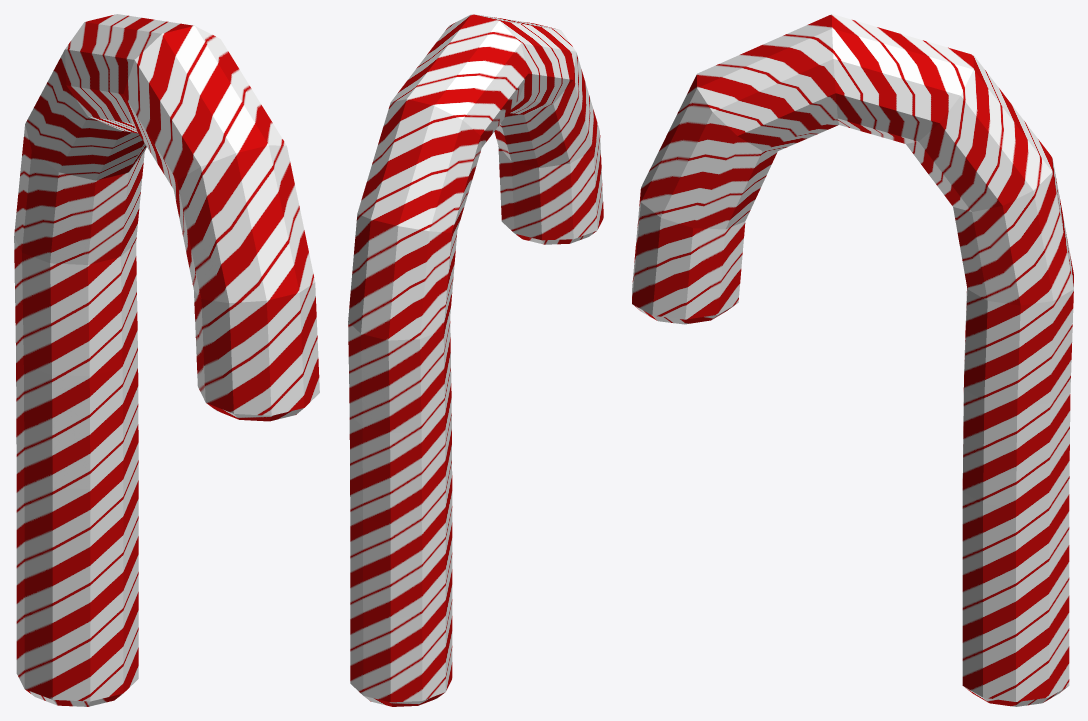
Rendered from CandyCane.fbx.
3 views of the same model, side by side, from view 1: azimuth 30°, elevation 25°; view 2: azimuth 150°, elevation 25°; view 3: azimuth 270°, elevation 25° (orthographic). The views are drawn at different scales.
Parts seen in each view (by area): view 1: Cylinder.1068; view 2: Cylinder.1068; view 3: Cylinder.1068.
Boxes of the visible parts, left/top/right/bottom form: Cylinder.1068: left=14, top=14, right=319, bottom=706; Cylinder.1068: left=348, top=14, right=603, bottom=706; Cylinder.1068: left=632, top=14, right=1073, bottom=706.
Size of the model in its own units: 34.65 by 227 by 137.
1 material, 1 textured.
